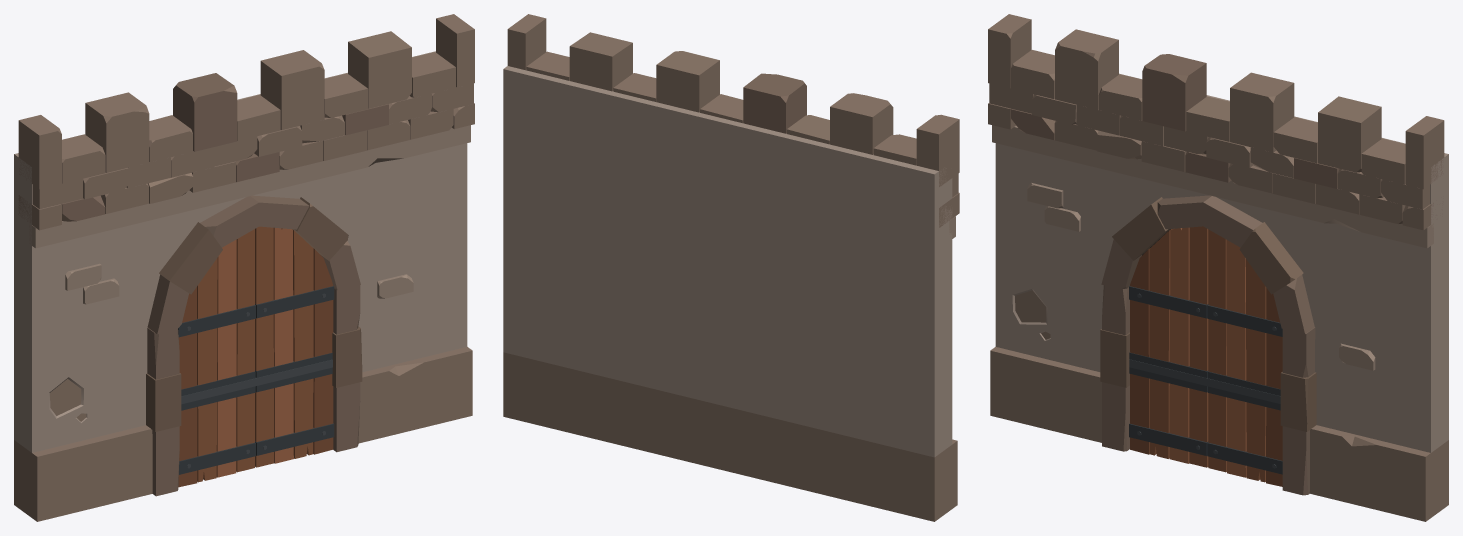
File: Wall_03.fbx
The picture shows the model from 3 angles, left to right: view 1: azimuth 30°, elevation 25°; view 2: azimuth 150°, elevation 25°; view 3: azimuth 330°, elevation 25°; orthographic projection.
Visible parts, largest first — view 1: Wall_03; view 2: Wall_03; view 3: Wall_03.
Boxes of the visible parts, <box> form: Wall_03: <box>14,14,474,521</box>; Wall_03: <box>503,14,959,521</box>; Wall_03: <box>988,14,1448,521</box>.
Size of the model in its own units: 700 by 598 by 79.36.
